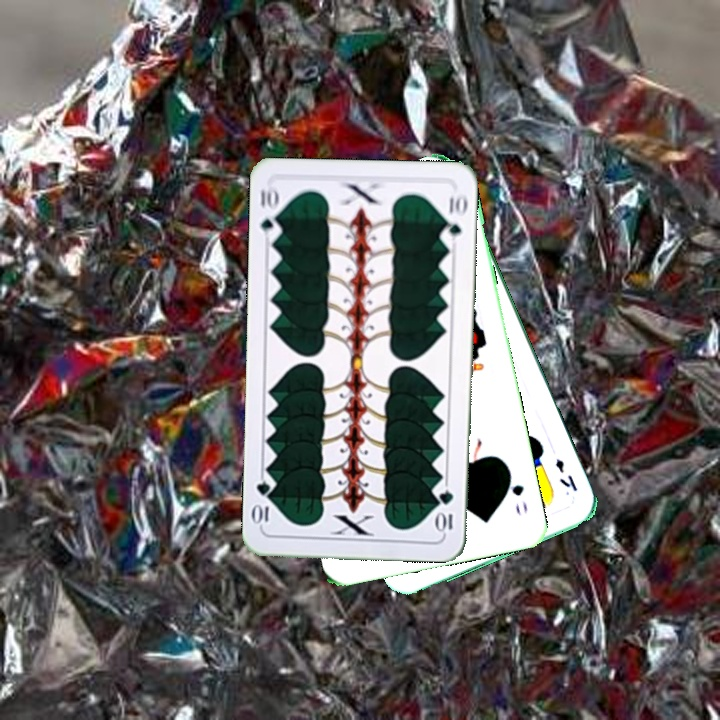EK: (551, 455, 580, 494)
G10: (256, 182, 283, 242), (435, 486, 456, 536)
GO: (503, 465, 530, 518)
